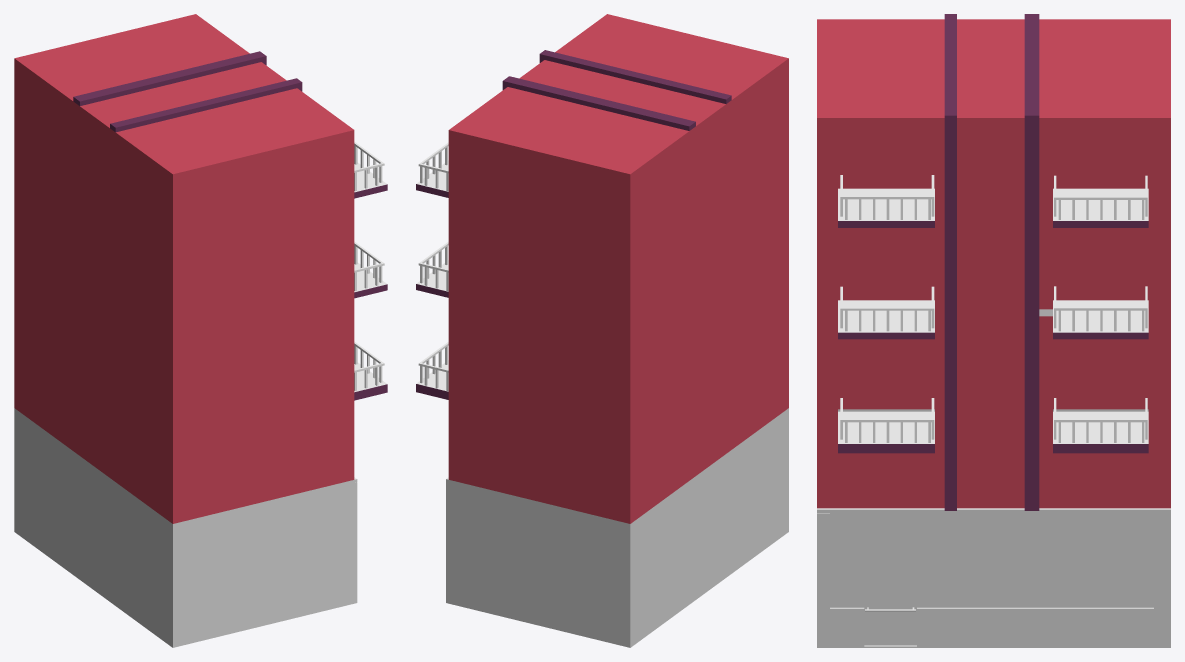
The model's file is bina2vol2.fbx.
3 views of the same model, side by side, from view 1: azimuth 30°, elevation 25°; view 2: azimuth 150°, elevation 25°; view 3: azimuth 270°, elevation 25° (orthographic). The views are drawn at different scales.
Visible parts, largest first — view 1: Cube; view 2: Cube; view 3: Cube.
Part boxes in pixels (x1=…): Cube: x1=14, y1=14, x2=387, y2=647; Cube: x1=416, y1=14, x2=788, y2=647; Cube: x1=817, y1=14, x2=1170, y2=647.
Size of the model in its own units: 1678 by 3421 by 2055.
